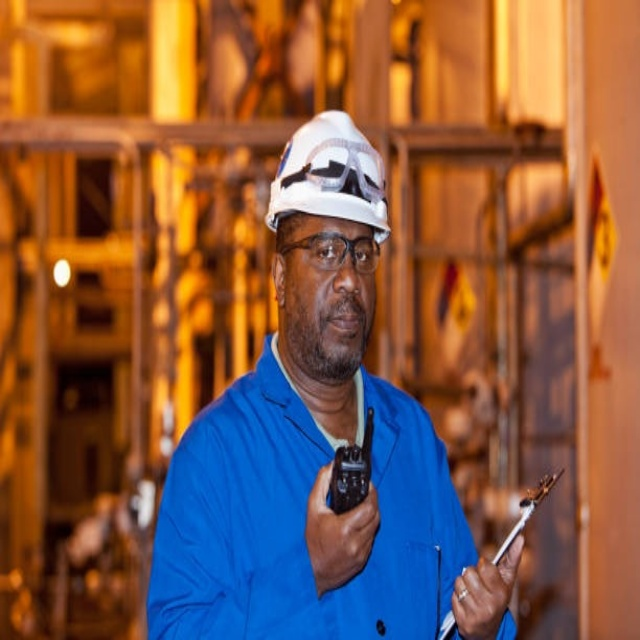Gafas: (277, 231, 382, 276)
Sin_guantes: (304, 456, 382, 593), (449, 533, 523, 640)
Sin_mascara: (320, 298, 368, 358)
